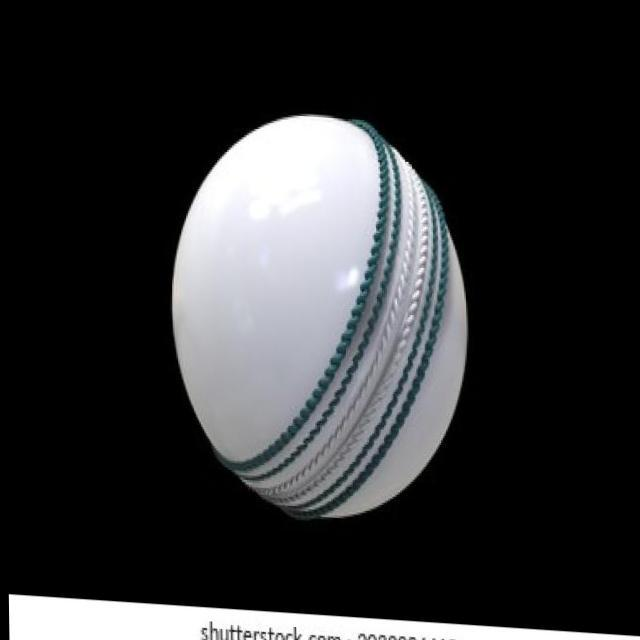cricket ball: (170, 110, 467, 518)
